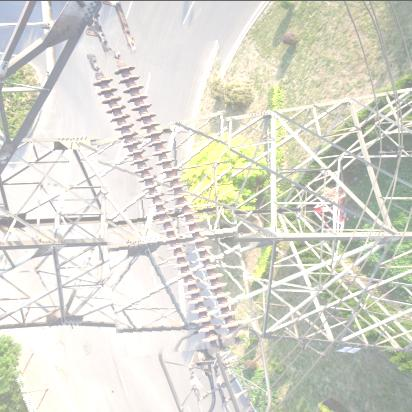insulator: (97, 43, 244, 355)
